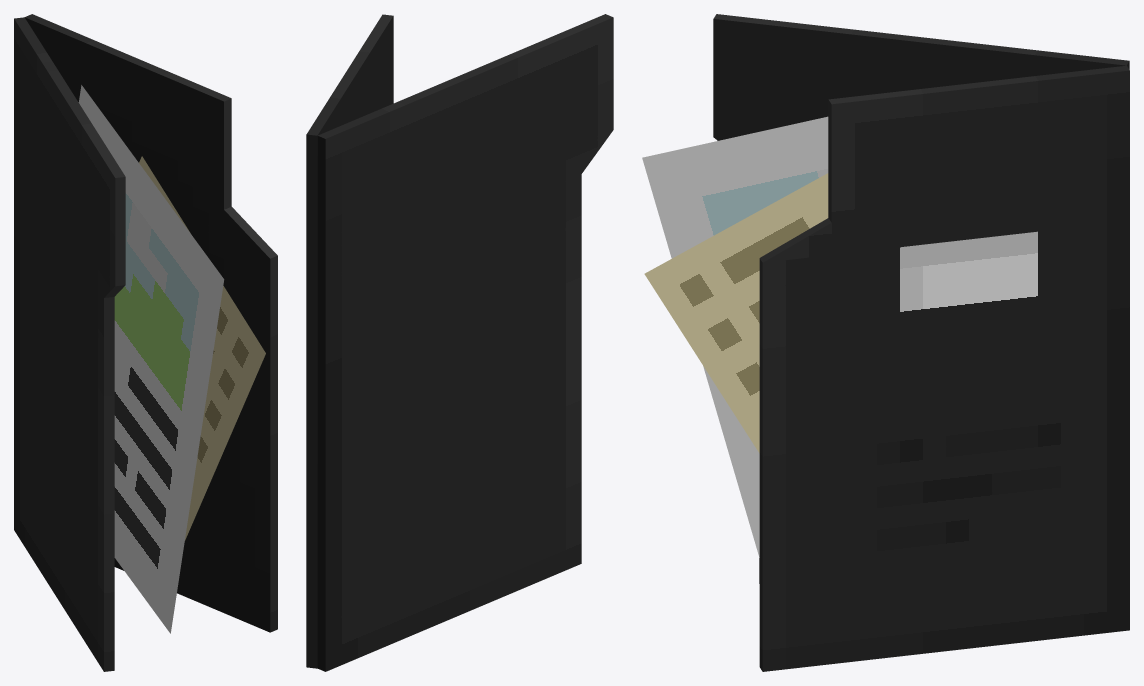
Rendered from portafolio.gltf.
3 views of the same model, side by side, from view 1: azimuth 30°, elevation 25°; view 2: azimuth 150°, elevation 25°; view 3: azimuth 270°, elevation 25° (orthographic). The views are drawn at different scales.
Parts seen in each view (by area): view 1: cuboid (×2), plane (×2); view 2: cuboid (×2); view 3: cuboid (×2), plane (×2).
Boxes of the visible parts, x1,y1,x2,y2 form: cuboid (×2): (14, 14, 277, 671); plane (×2): (78, 85, 265, 633); cuboid (×2): (306, 14, 613, 671); cuboid (×2): (713, 14, 1129, 671); plane (×2): (642, 116, 828, 557).
Bounding box in the file's own units: 0.6107 × 1.62 × 1.28.
4 materials, 4 textured.
